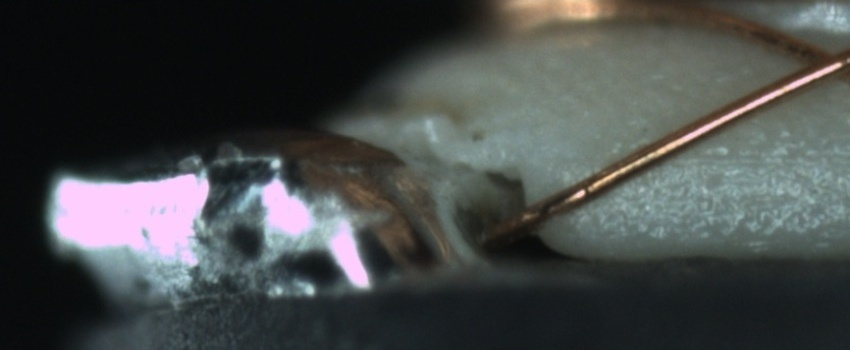CL: (775, 30, 849, 90)
DL: (674, 123, 849, 187)
